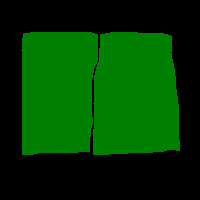mutande: (92, 32, 180, 155), (21, 32, 98, 155)
